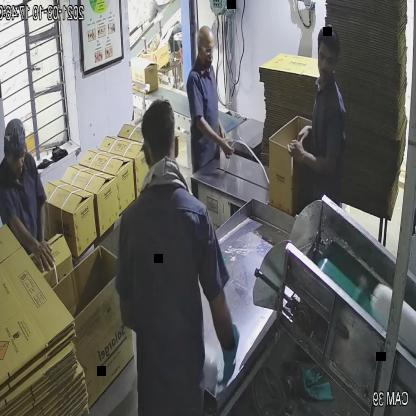no_glove: (2, 201, 58, 275), (190, 111, 242, 168), (283, 137, 341, 180)
